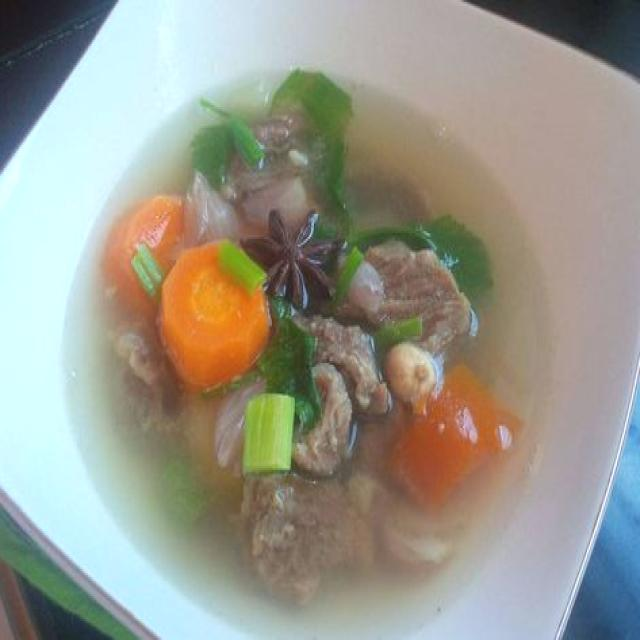sop: (70, 69, 572, 625)
